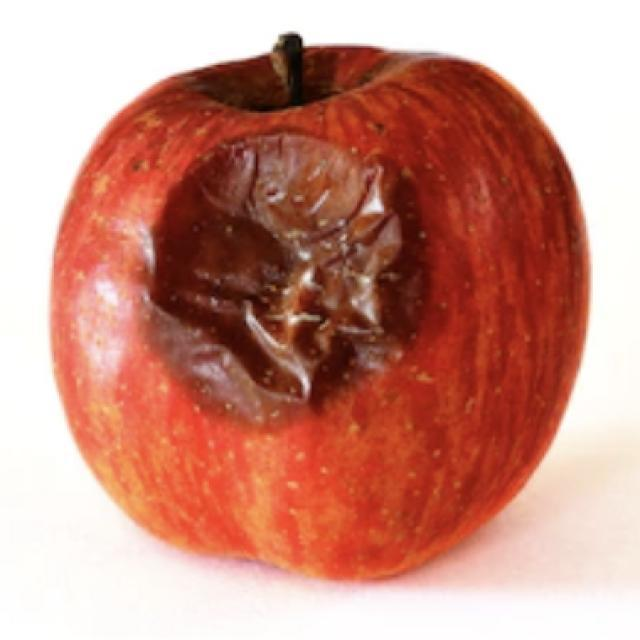Rotten: (53, 36, 577, 592)
